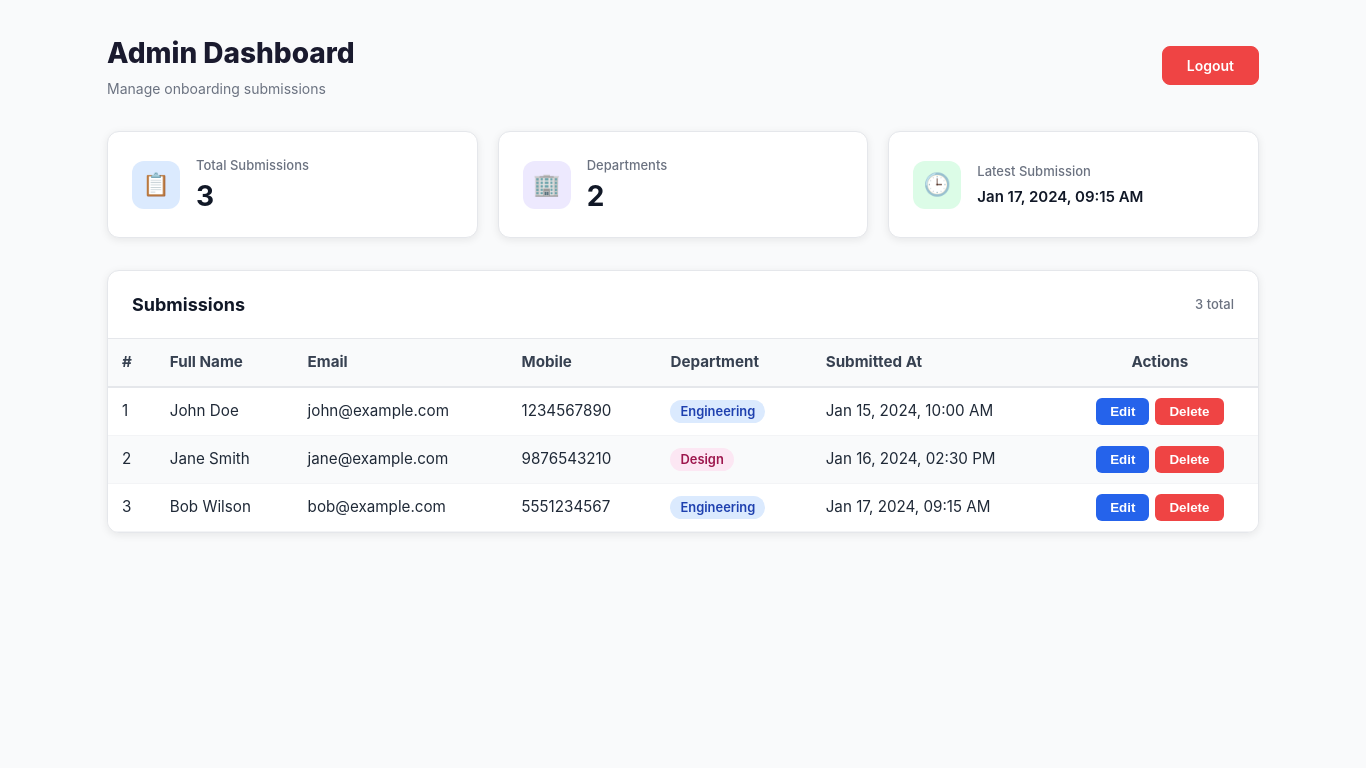
Test: AdminDashboard › edit modal › opens edit modal when edit button is clicked
Click the button "Edit" in the row of "John Doe" at (1123, 411), box [1096,398,1149,425]
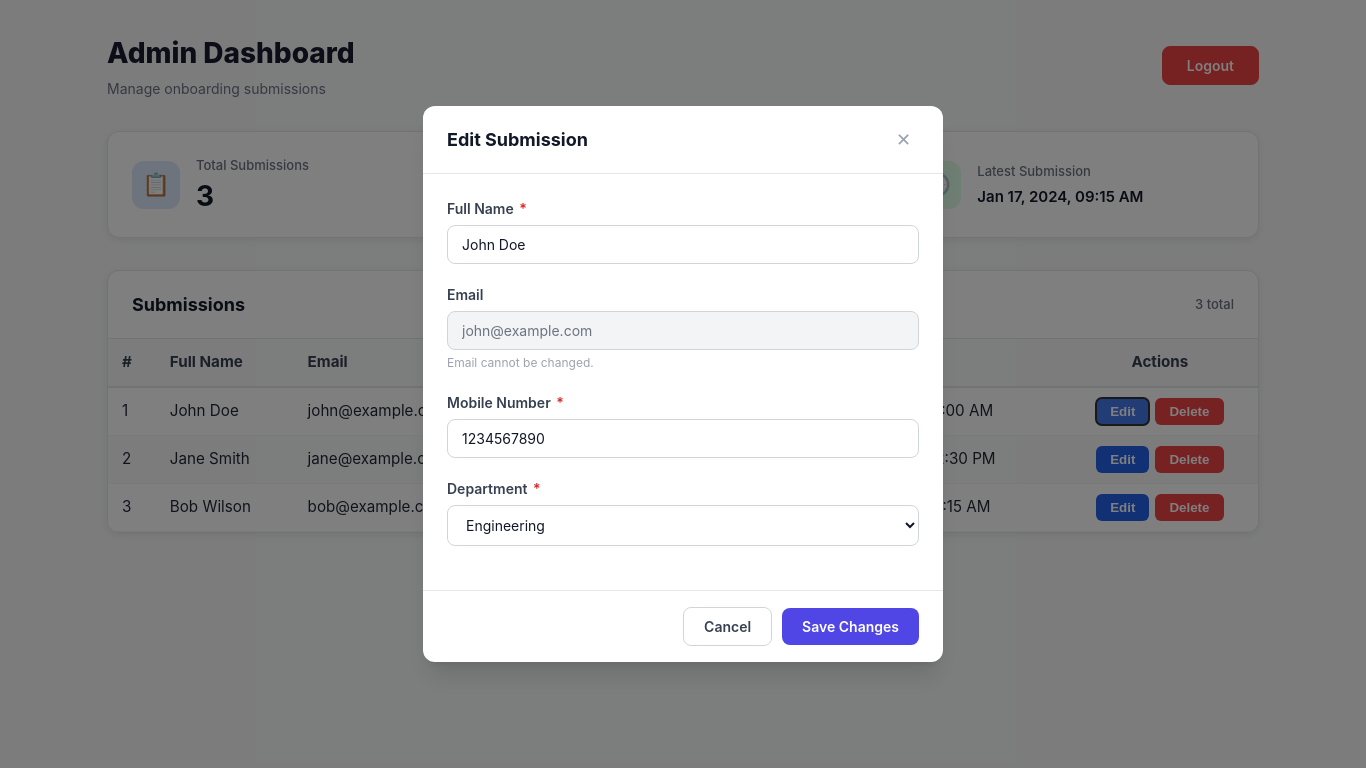
Now the heading "Edit Submission" is shown, box [447,126,588,153]
Now the field labelled "Full Name *" holds "John Doe", box [447,225,919,264]
Now the field labelled "Email" holds "john@example.com", box [447,311,919,350]
